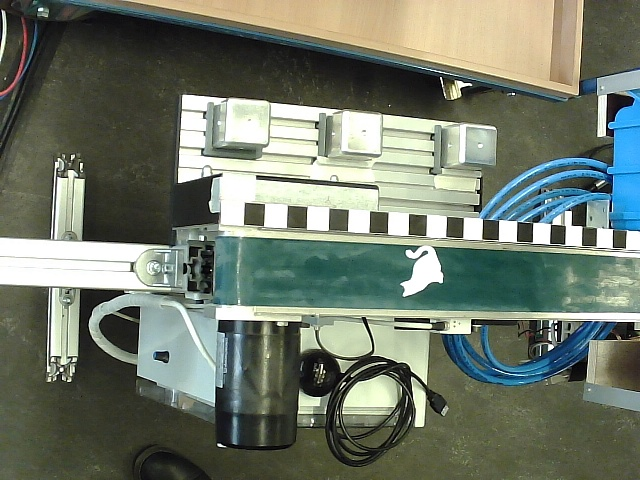cat: (399, 244, 446, 298)
